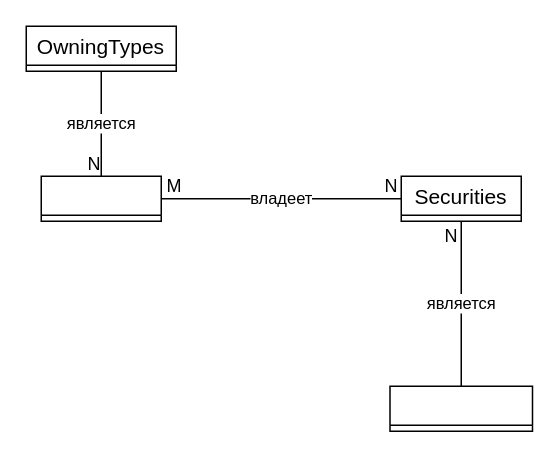
Some shapes in this 560 by 458 pixel diagram are drawn without their labels. Each missing label, with the centre of its shape:
Clients: (x=100, y=198)
SecurityTypes: (x=460, y=408)
